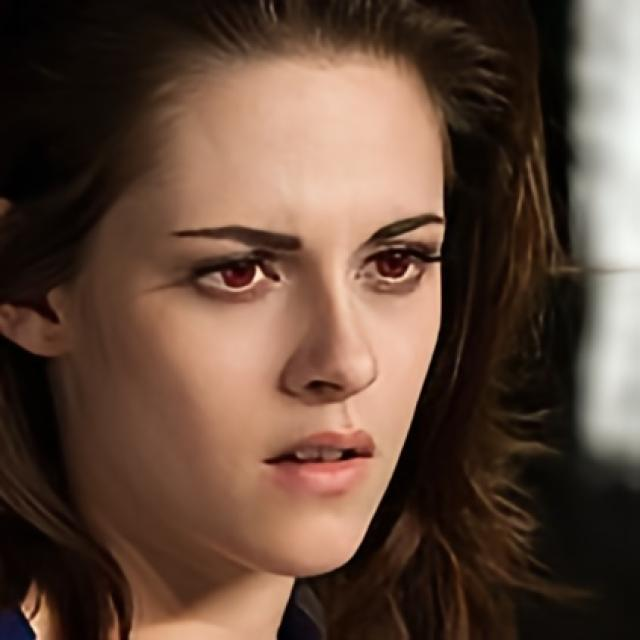disgust: (84, 41, 444, 570)
